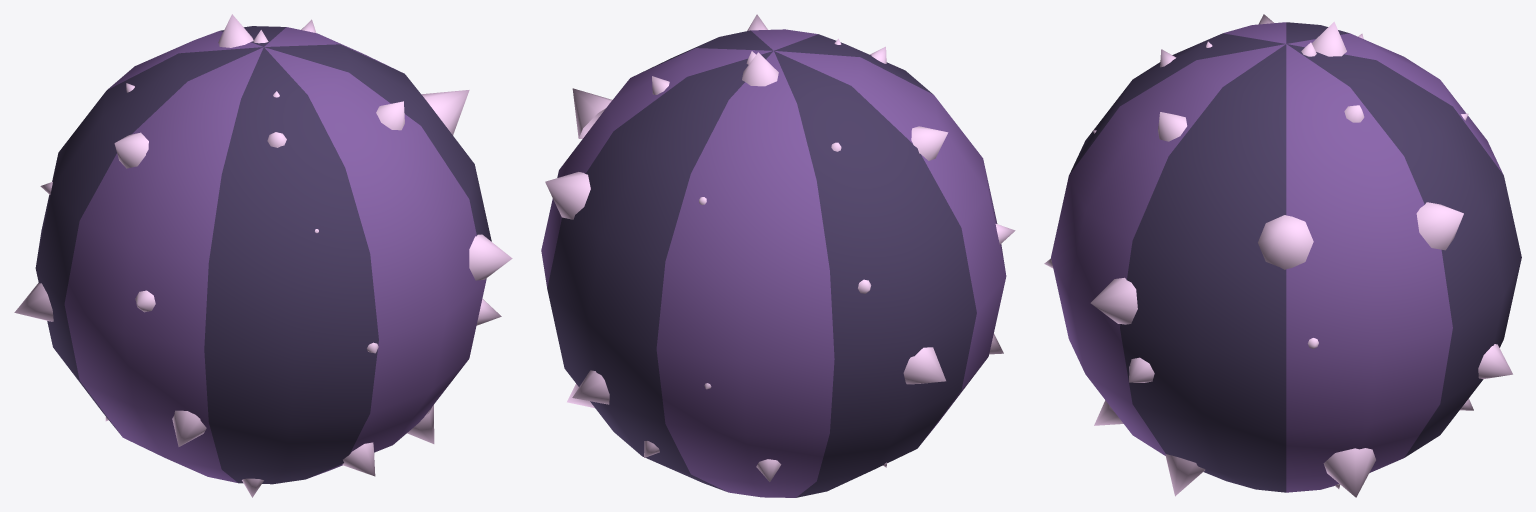
Rendered from Cacti1.fbx.
3 renders of one model, left to right at view 1: azimuth 30°, elevation 25°; view 2: azimuth 150°, elevation 25°; view 3: azimuth 270°, elevation 25°, orthographic. The views are drawn at different scales.
Parts seen in each view (by area): view 1: Cacti1_LOD0; view 2: Cacti1_LOD0; view 3: Cacti1_LOD0.
Part boxes in pixels (x1,y1,x2,y2): Cacti1_LOD0: (14,14,512,497); Cacti1_LOD0: (541,14,1015,497); Cacti1_LOD0: (1044,14,1521,497).
Size of what is drawn, in the model's own units: 240 by 235 by 236.
